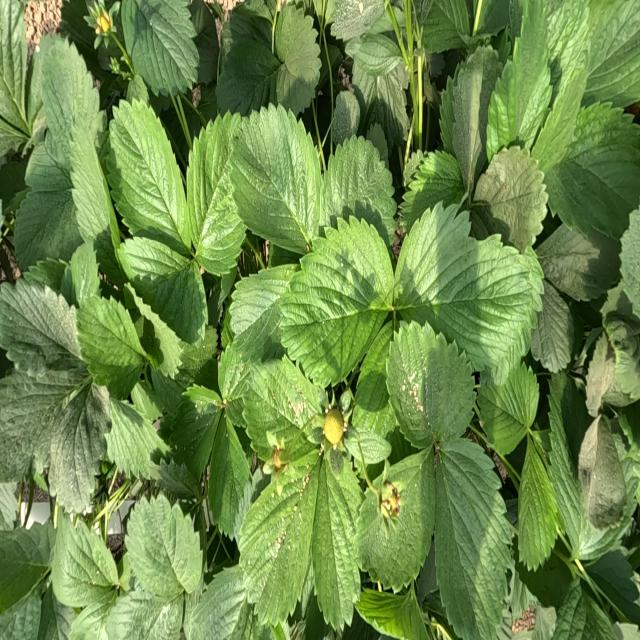Leaves: (394, 203, 539, 369), (278, 219, 393, 388), (488, 0, 591, 161), (435, 439, 510, 639), (237, 455, 323, 623), (231, 105, 323, 254), (547, 105, 639, 239), (110, 100, 187, 246), (387, 321, 475, 448), (362, 450, 435, 591), (1, 365, 87, 483), (243, 359, 321, 488), (487, 0, 551, 156), (312, 456, 368, 629), (187, 112, 246, 273), (13, 136, 82, 271), (440, 45, 502, 187), (37, 34, 101, 167), (117, 237, 202, 336), (126, 493, 202, 602), (49, 382, 111, 512), (352, 319, 409, 459), (322, 136, 395, 241), (473, 148, 547, 250), (547, 372, 590, 547), (121, 0, 198, 96), (0, 280, 82, 369), (229, 264, 300, 366), (349, 32, 408, 146), (77, 296, 144, 396), (52, 510, 119, 607), (536, 224, 619, 299), (584, 0, 640, 107), (477, 360, 538, 455), (151, 326, 218, 410), (518, 436, 560, 569), (69, 123, 115, 240), (208, 416, 250, 538), (216, 35, 279, 116), (275, 5, 321, 114), (126, 284, 181, 375), (400, 151, 464, 229), (161, 396, 219, 481), (184, 564, 247, 639), (105, 398, 164, 477), (532, 282, 583, 372), (586, 417, 626, 529), (105, 582, 183, 638), (584, 550, 639, 624), (59, 0, 108, 80), (1, 525, 46, 612), (1, 1, 29, 134), (552, 582, 617, 639), (605, 312, 640, 401), (480, 329, 530, 388), (218, 341, 249, 425), (422, 0, 470, 51), (223, 2, 272, 50), (330, 1, 385, 41), (586, 336, 614, 414), (0, 589, 42, 639), (193, 1, 218, 83), (620, 208, 639, 315), (40, 585, 76, 639), (345, 426, 391, 466), (68, 600, 114, 639), (397, 584, 429, 639), (156, 460, 199, 499), (331, 91, 360, 145), (479, 0, 509, 34)
Strawberries: (324, 410, 344, 446), (379, 488, 399, 516), (94, 14, 109, 34)
